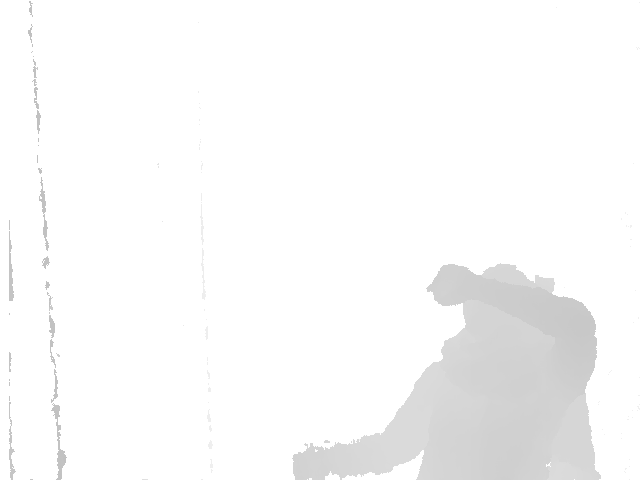head: (461, 262, 556, 355)
person: (292, 262, 604, 480)
